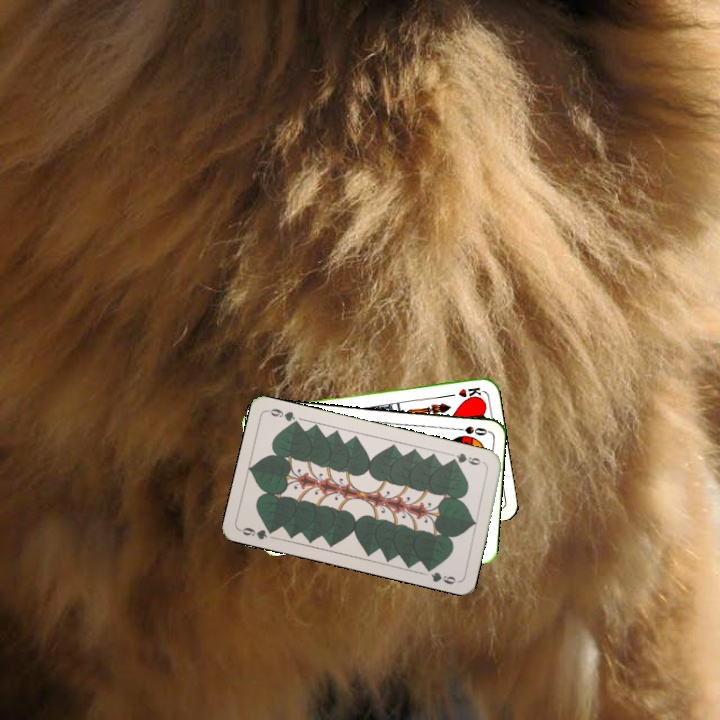G9: (236, 523, 278, 542), (447, 449, 488, 468)
HK: (443, 383, 484, 400)
SO: (449, 422, 490, 438)
